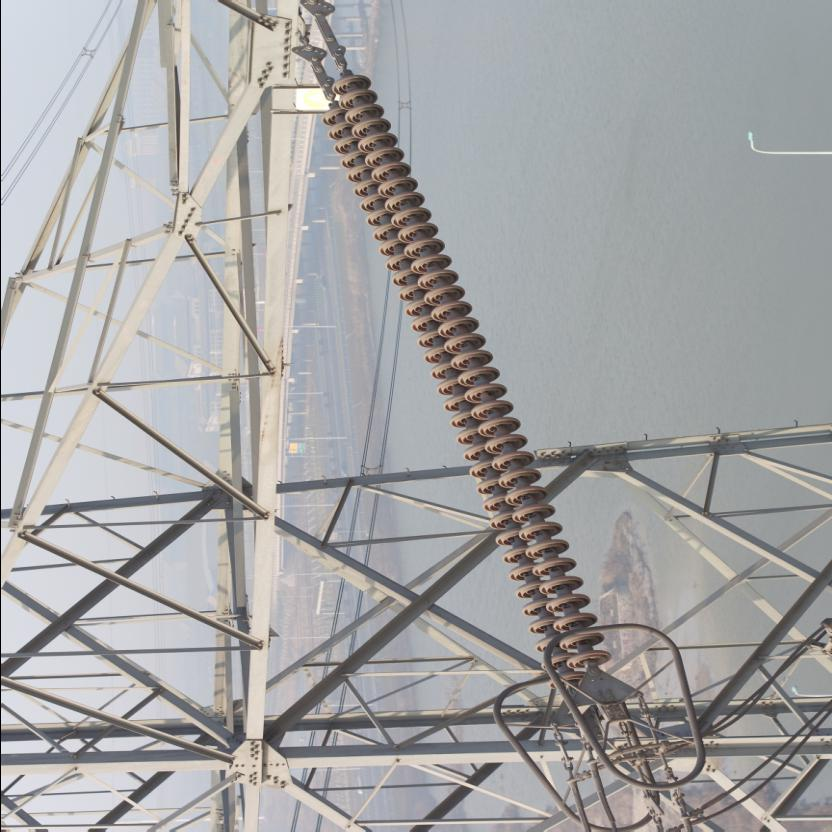insulator: (310, 60, 612, 692)
